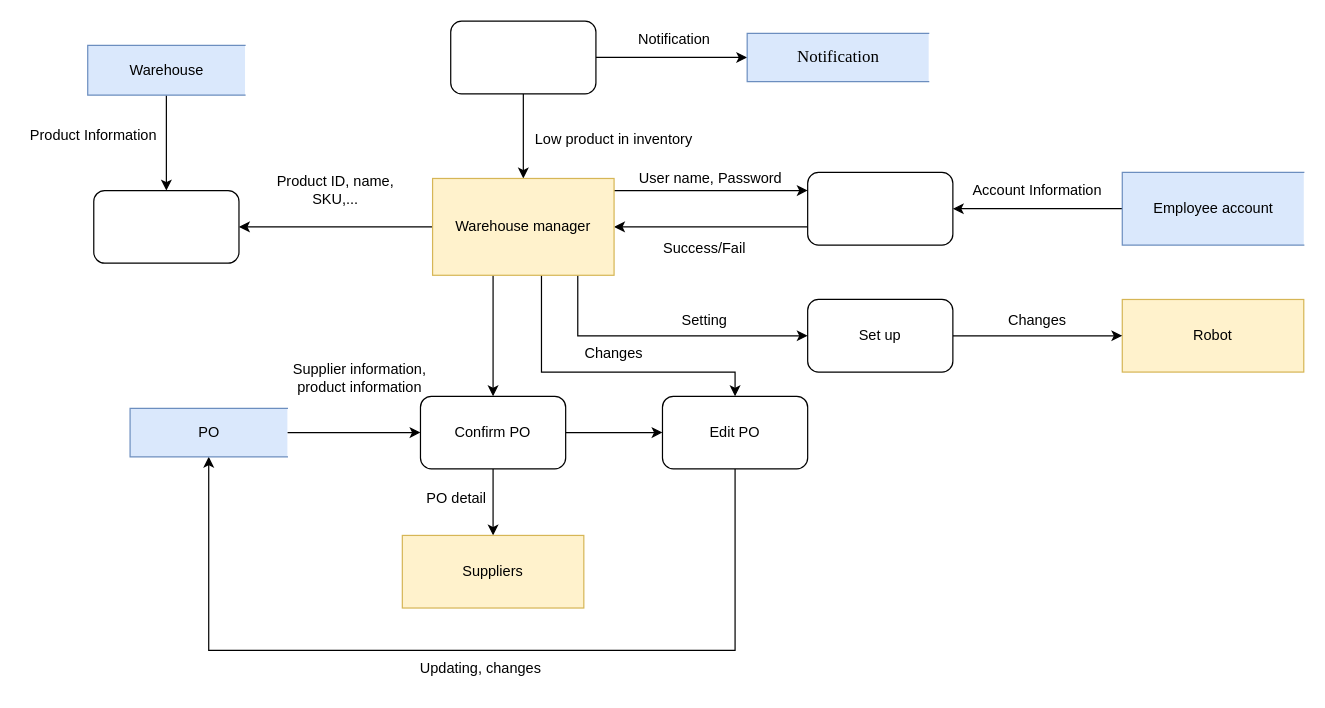
The diagram is 1325 pixels wide and 708 high, and some of its shapes have lost their labels. The shapes that lost their labels are listed below. From the top down, each one's centre as x and y in pixels, then its label:
the point at 523,57: Send notification of low inventory
the point at 166,226: View + Search product information
the point at 879,208: Log in
